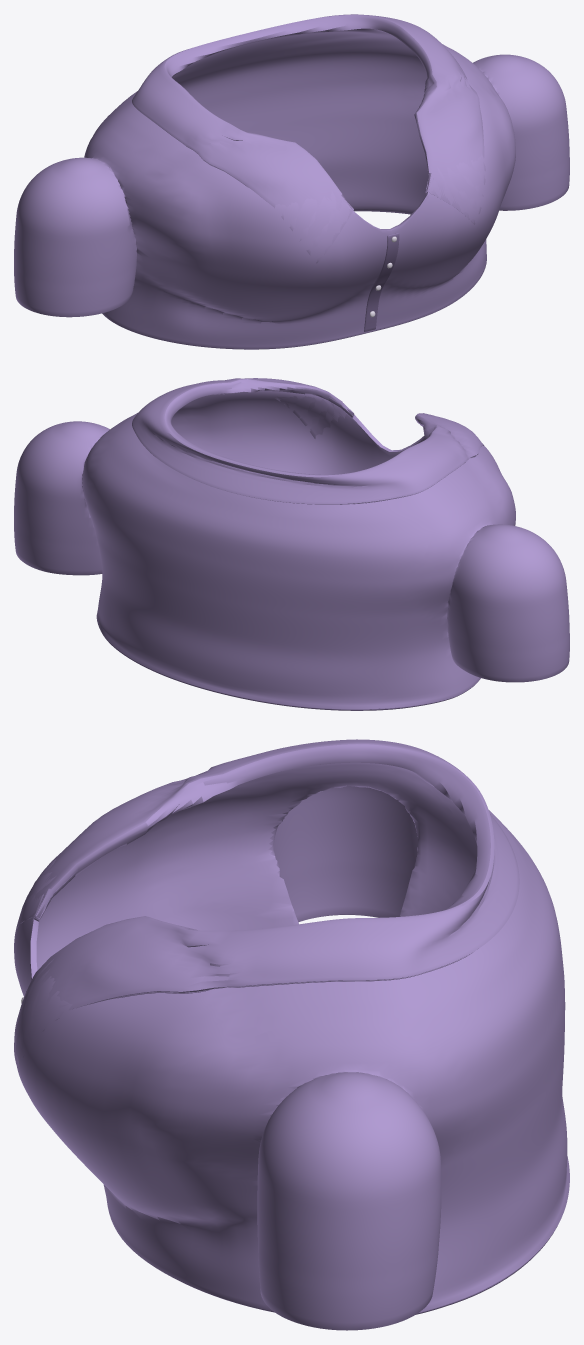
Rendered from Feminine-open-top.glb.
The picture shows the model from 3 angles, top to bottom: view 1: azimuth 30°, elevation 25°; view 2: azimuth 150°, elevation 25°; view 3: azimuth 270°, elevation 25°; orthographic projection. The views are drawn at different scales.
Visible parts, largest first — view 1: Clothing / joined open186, Button-up / lower closed placket; view 2: Clothing / joined open186, Shirt / seated hem export; view 3: Clothing / joined open186.
Boxes of the visible parts, x1,y1,x2,y2 form: Clothing / joined open186: [14, 14, 569, 349]; Button-up / lower closed placket: [364, 233, 399, 331]; Clothing / joined open186: [14, 378, 569, 709]; Shirt / seated hem export: [102, 634, 474, 710]; Clothing / joined open186: [14, 739, 569, 1330].
Size of the model in its own units: 0.9262 by 0.3605 by 0.5188.
